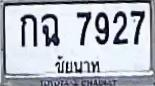2: (112, 10, 127, 44)
7: (76, 11, 91, 45), (130, 10, 144, 44)
9: (94, 11, 108, 44)
A01: (19, 13, 37, 46)
A09: (40, 13, 60, 46)
CNT: (50, 53, 105, 76)
